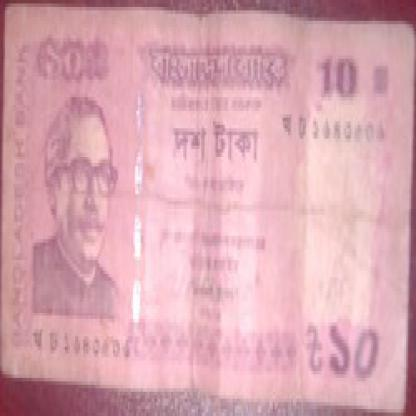Ten Taka: (45, 31, 116, 114), (330, 312, 394, 392), (310, 48, 364, 114)
